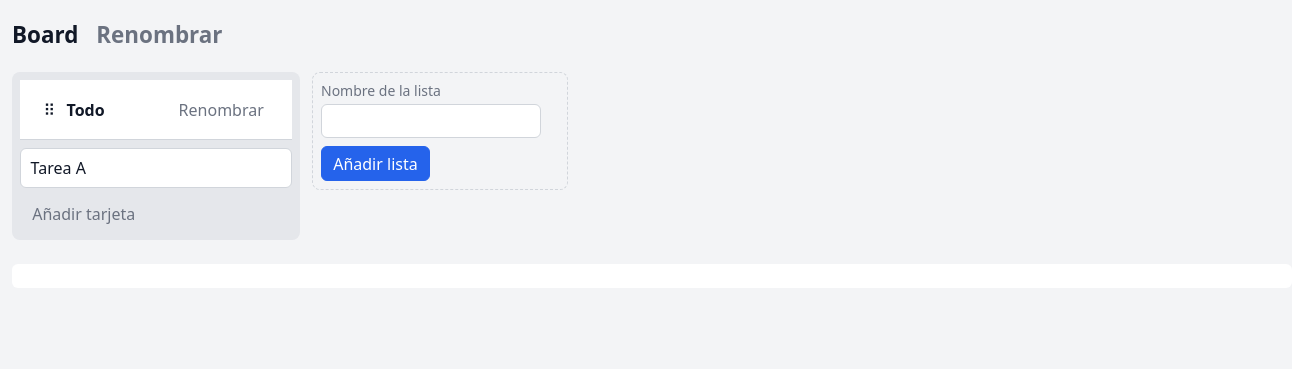
BoardView › renombra una lista
The width and height of the screenshot is (1292, 369).
Click the button with aria-label "Renombrar lista Todo" at [221, 110], box [166, 92, 276, 127]
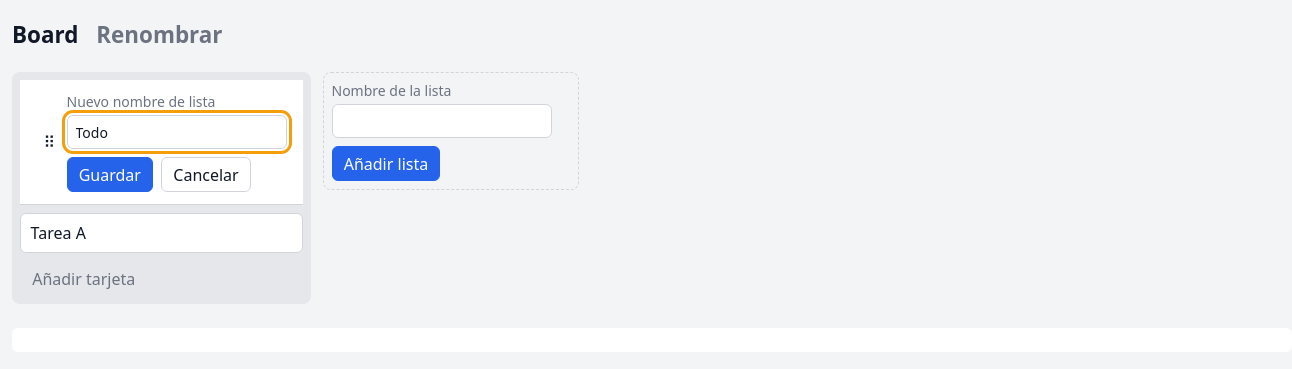
Replace the text in the field labelled "Nuevo nombre de lista" with "Por hacer" at [176, 132], box [66, 115, 286, 149]
Then press Enter
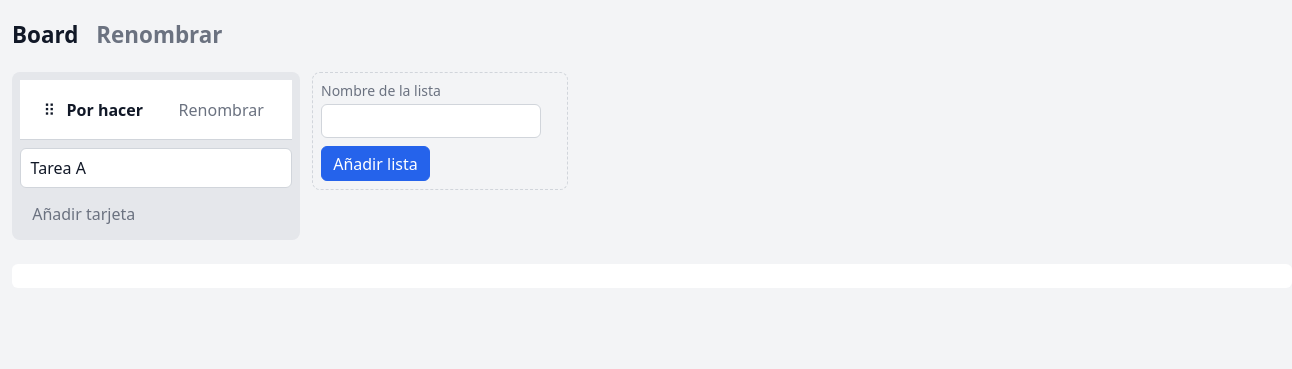
Check: the heading "Por hacer" is shown, box [66, 99, 143, 121]
